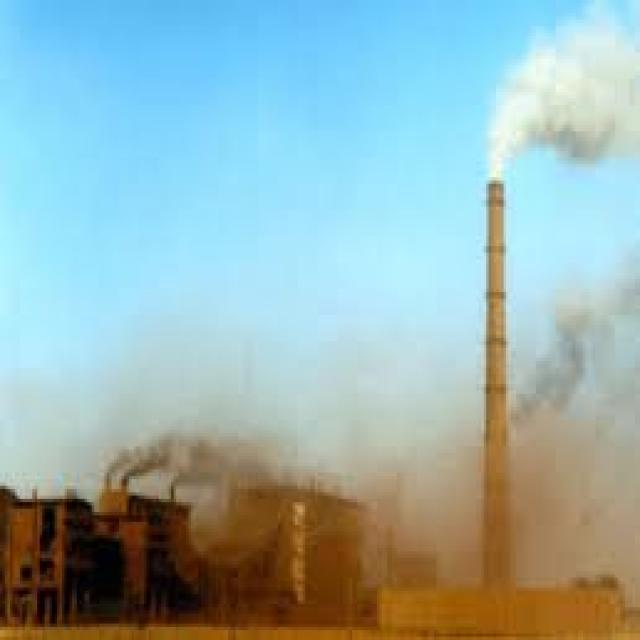Smoke: (485, 19, 640, 172), (512, 280, 640, 428), (519, 437, 640, 590), (110, 431, 270, 484)
